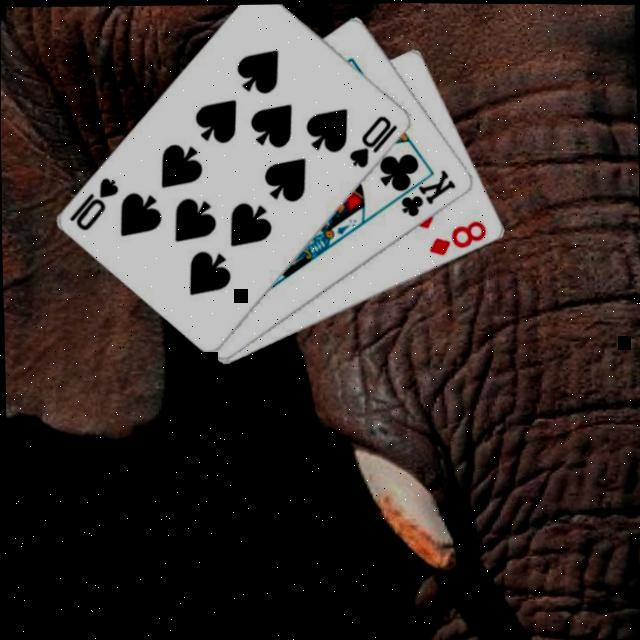10S: (66, 171, 123, 231), (346, 109, 402, 168)
8D: (426, 214, 490, 256)
KC: (386, 163, 459, 217)
